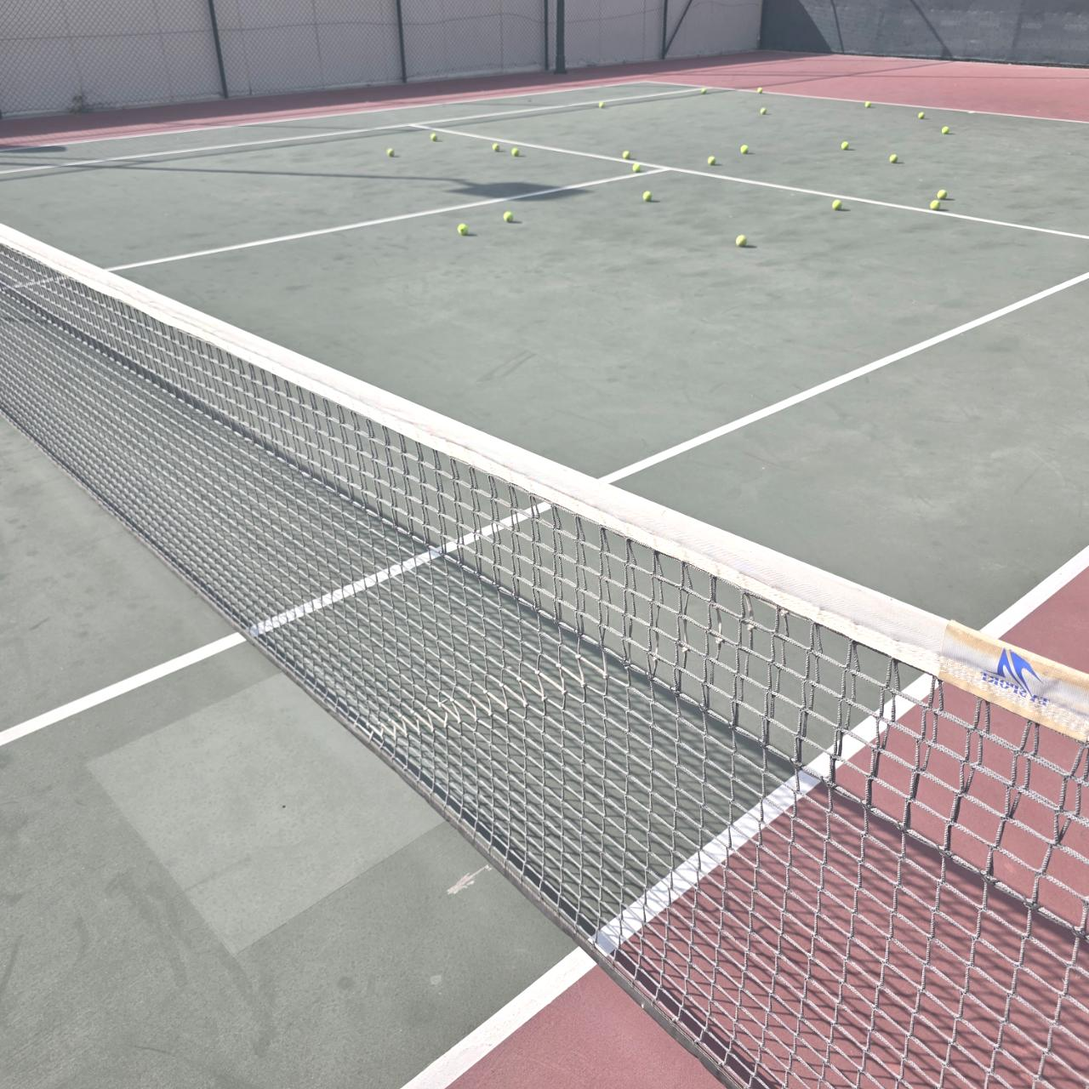tennis-ball: (736, 232, 749, 247), (642, 188, 654, 202), (458, 221, 469, 235), (930, 200, 941, 211), (832, 199, 842, 211), (386, 145, 396, 157), (504, 211, 514, 222), (937, 189, 947, 200), (510, 148, 520, 158), (491, 143, 501, 153), (740, 144, 749, 155), (621, 150, 632, 159), (631, 163, 642, 172), (708, 155, 717, 165), (889, 154, 898, 163), (841, 141, 850, 150), (942, 125, 950, 135), (917, 111, 925, 120), (430, 133, 438, 142), (597, 102, 605, 110), (864, 101, 872, 108), (760, 107, 767, 115), (757, 87, 763, 95), (701, 88, 707, 94)
